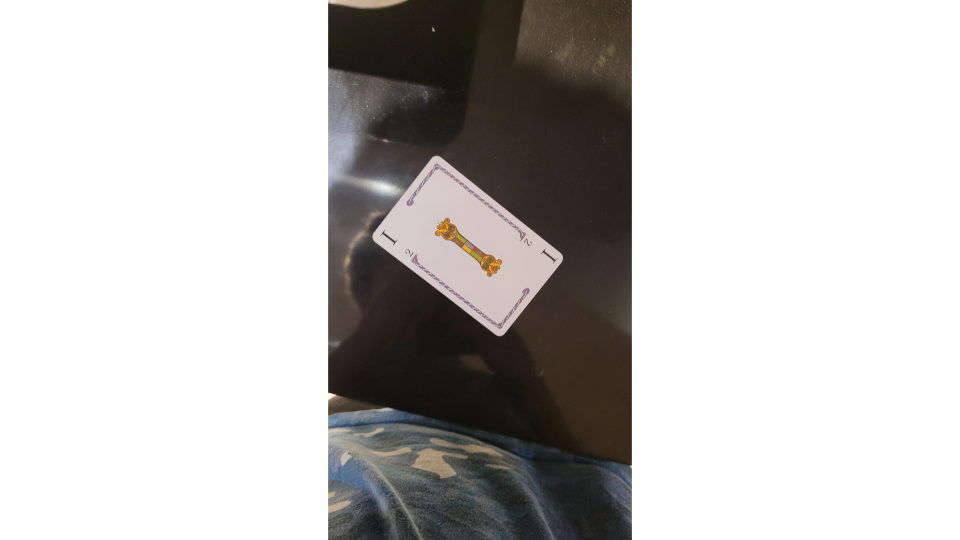I: (367, 151, 566, 339)
